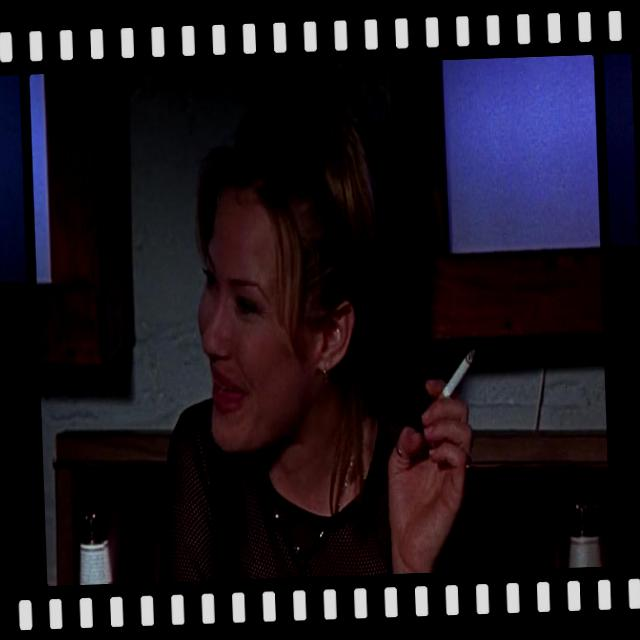smoke: (420, 321, 497, 425)
